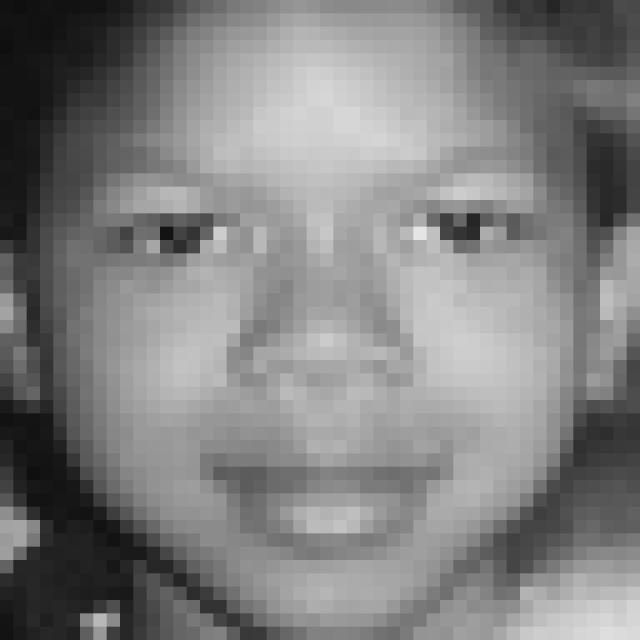neutral: (76, 144, 560, 570)
